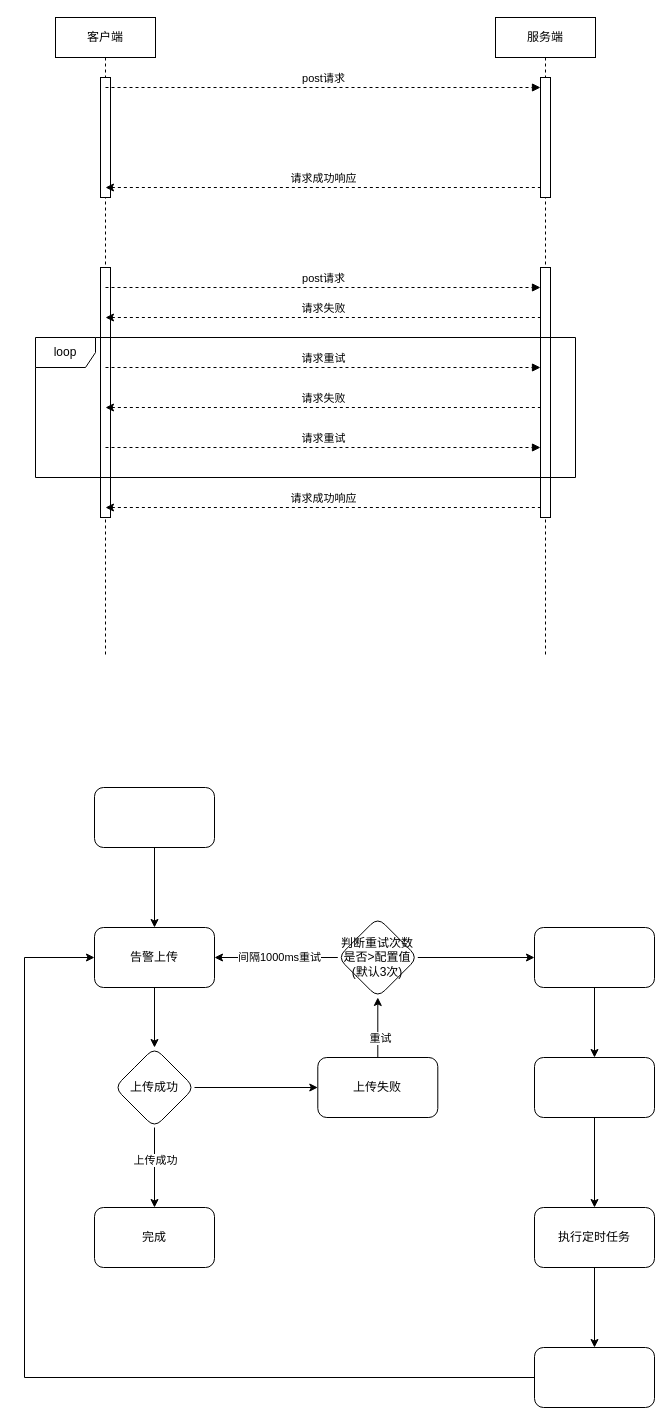
This 672x1425 diagram has some shape labels left out. The shapes that lost their labels are listed below. From the top down, each one's centre as x and y in pixels, then its label:
the point at 154,817: 上位机
the point at 594,957: 加入等待队列
the point at 594,1087: 等待定时任务执行
the point at 594,1377: 遍历每个待上报告警（间隔时间为1000ms）
